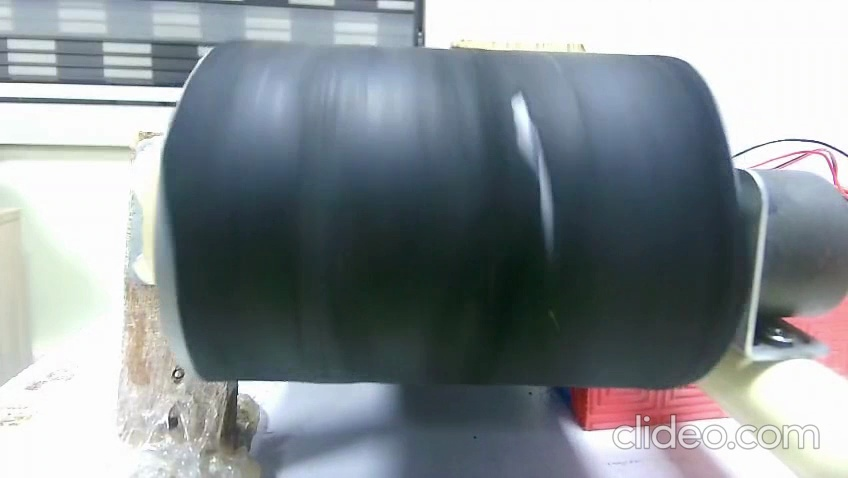hole: (511, 93, 537, 155)
tear: (506, 78, 560, 257), (539, 157, 548, 208)
